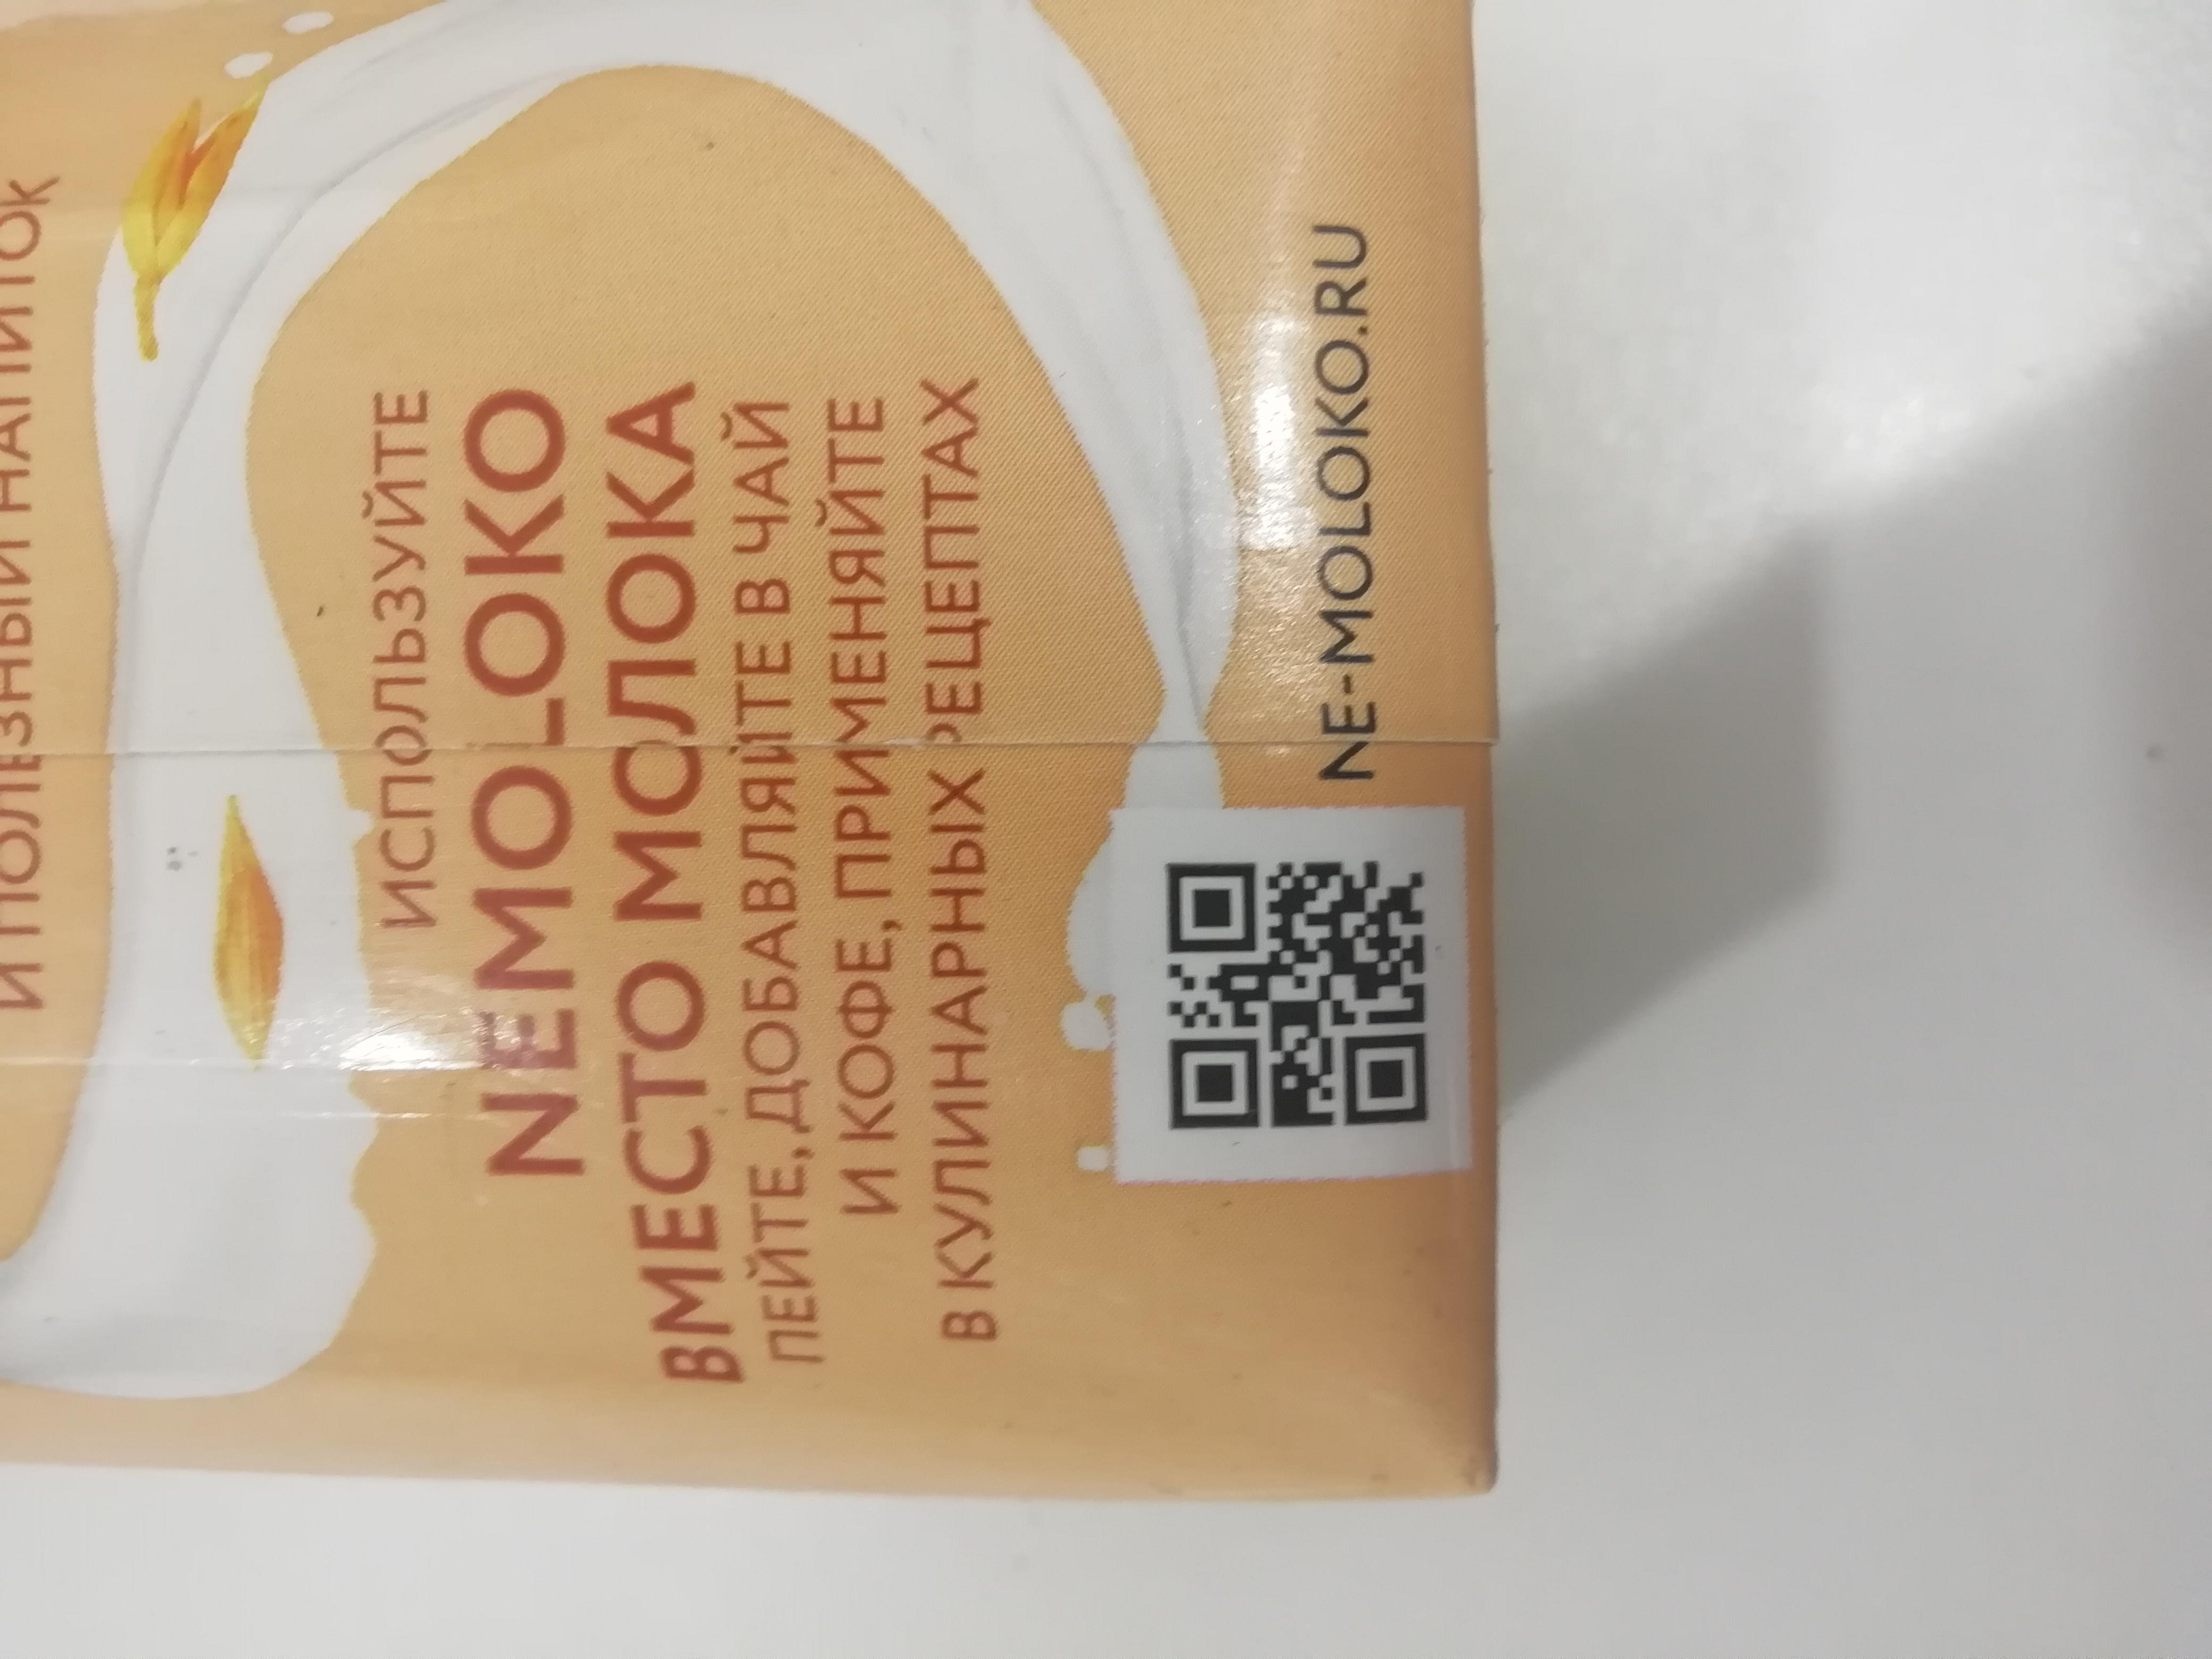qrcode: (1170, 859, 1428, 1127)
